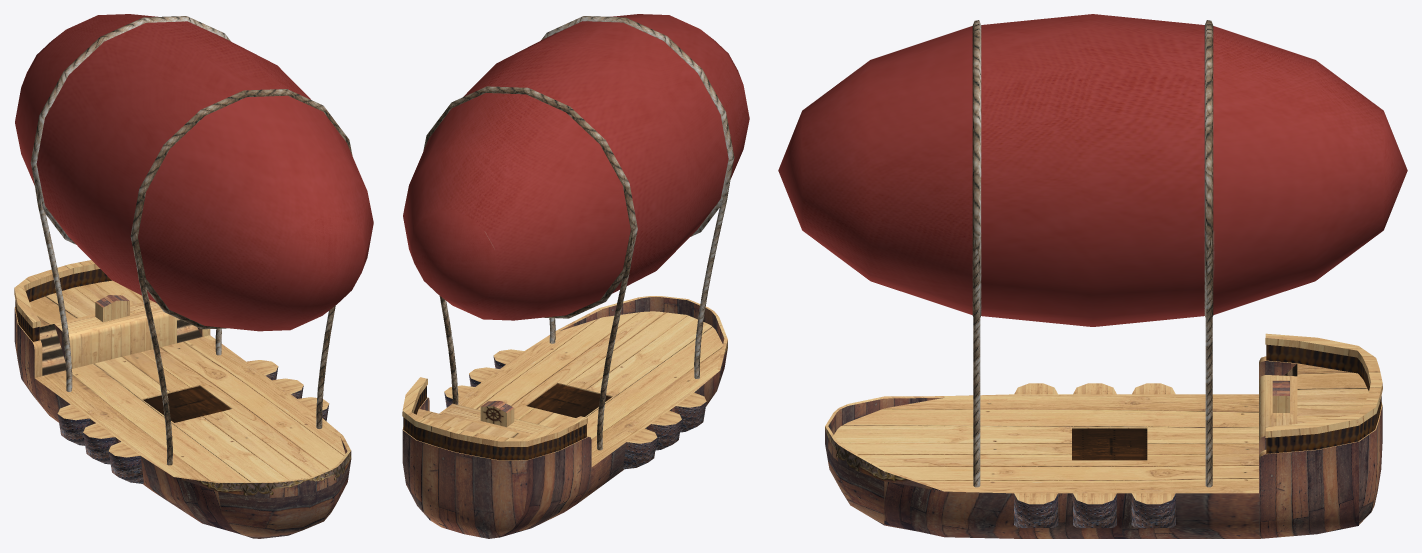
The model's file is skyship_widebody.fbx.
3 views of the same model, side by side, from view 1: azimuth 30°, elevation 25°; view 2: azimuth 150°, elevation 25°; view 3: azimuth 270°, elevation 25° (orthographic). The views are drawn at different scales.
Parts seen in each view (by area): view 1: Sphere, Plane.001, BézierCurve; view 2: Sphere, Plane.001, BézierCurve; view 3: Sphere, Plane.001, BézierCurve.
Boxes of the visible parts, left/top/right/bottom form: Sphere: left=15, top=14, right=373, bottom=331; Plane.001: left=14, top=260, right=351, bottom=538; BézierCurve: left=32, top=169, right=335, bottom=465; Sphere: left=403, top=14, right=749, bottom=320; Plane.001: left=402, top=296, right=727, bottom=538; BézierCurve: left=439, top=163, right=733, bottom=450; Sphere: left=778, top=14, right=1407, bottom=326; Plane.001: left=825, top=333, right=1382, bottom=538; BézierCurve: left=973, top=234, right=1212, bottom=487.
Bounding box in the file's own units: 477 × 822 × 958.
